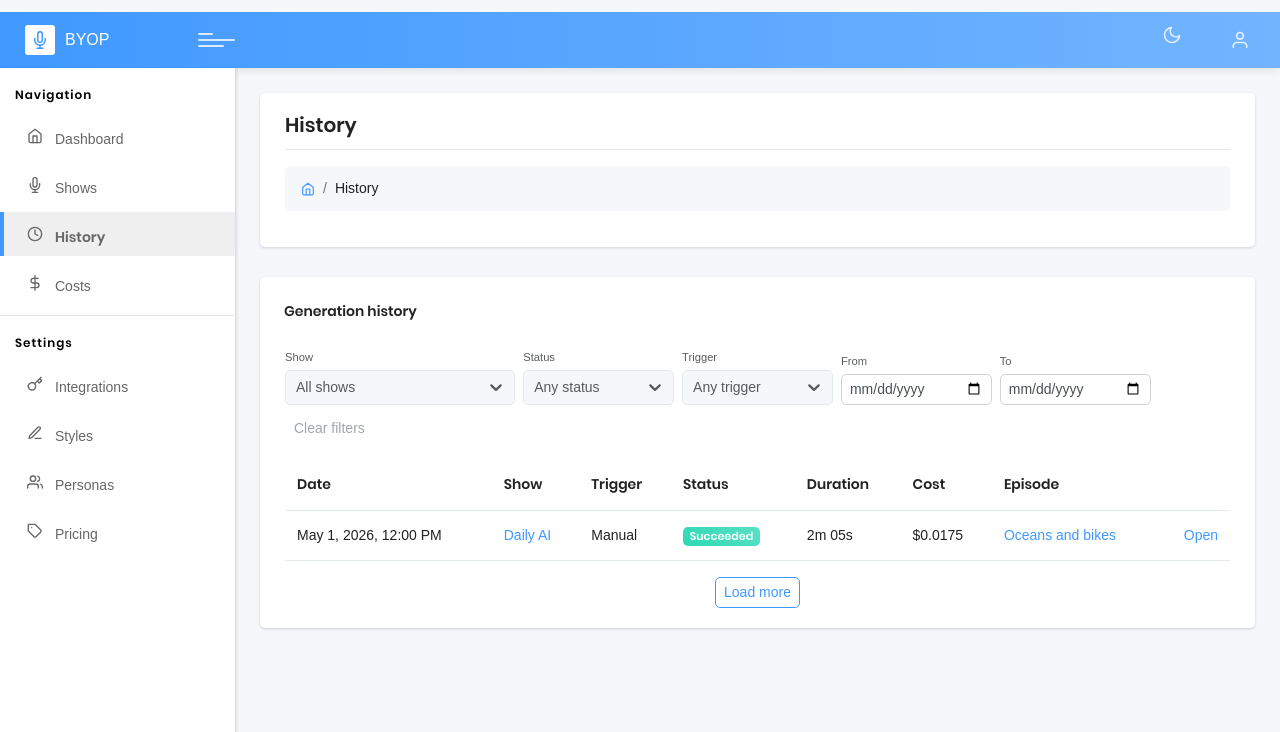
Test: history page › loads the next page with the cursor and appends it
Click the button "Load more" at [757, 593], box [715,578,800,608]
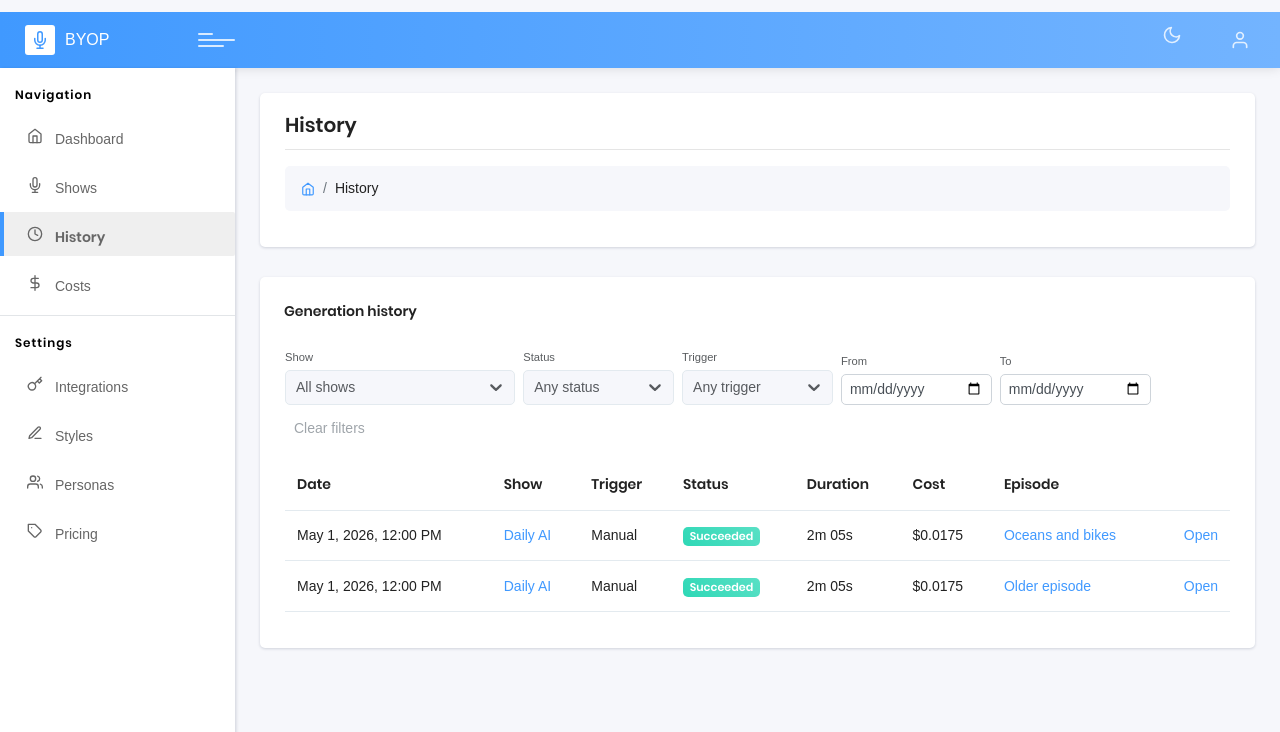
Expected: the link "Oceans and bikes" is shown, [1004,527,1116,543]
Expected: the link "Older episode" is shown, [1004,578,1091,594]
Expected: the button "Load more" is gone
